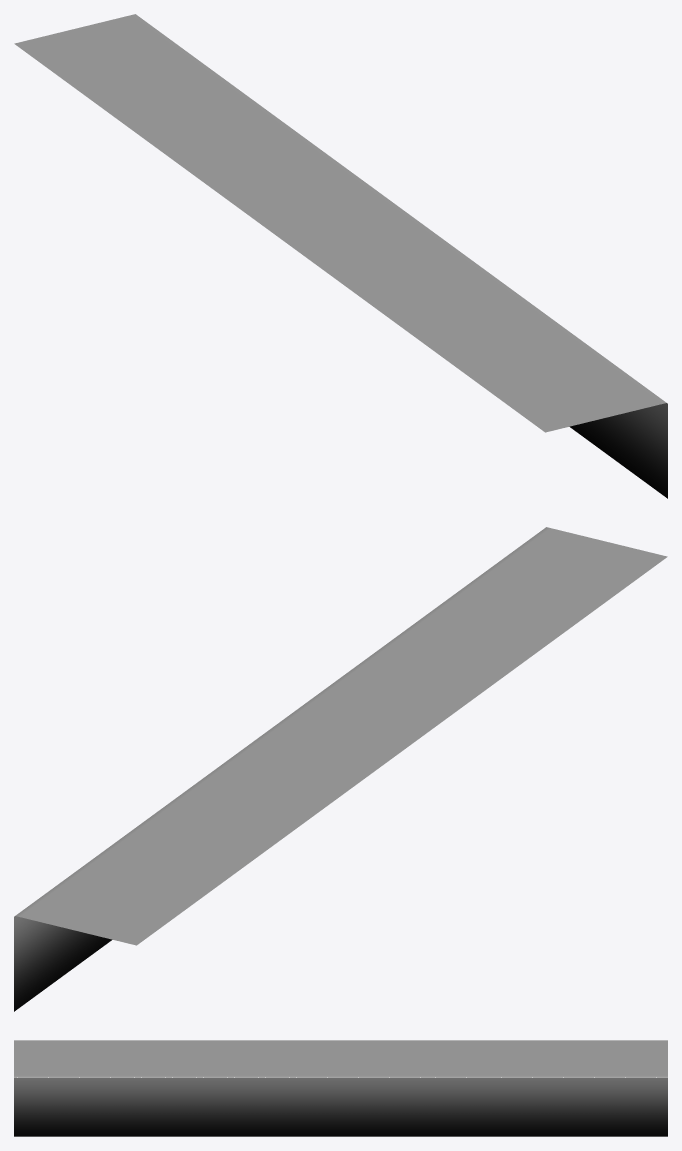
File: Water_bunker.fbx
The picture shows the model from 3 angles, top to bottom: view 1: azimuth 30°, elevation 25°; view 2: azimuth 150°, elevation 25°; view 3: azimuth 270°, elevation 25°; orthographic projection. The views are drawn at different scales.
Parts seen in each view (by area): view 1: Water5; view 2: Water5; view 3: Water5.
Boxes of the visible parts, left/top/right/bottom form: Water5: left=14, top=14, right=667, bottom=498; Water5: left=14, top=527, right=667, bottom=1011; Water5: left=14, top=1040, right=667, bottom=1136.
Size of the model in its own units: 800 by 600 by 6000.
